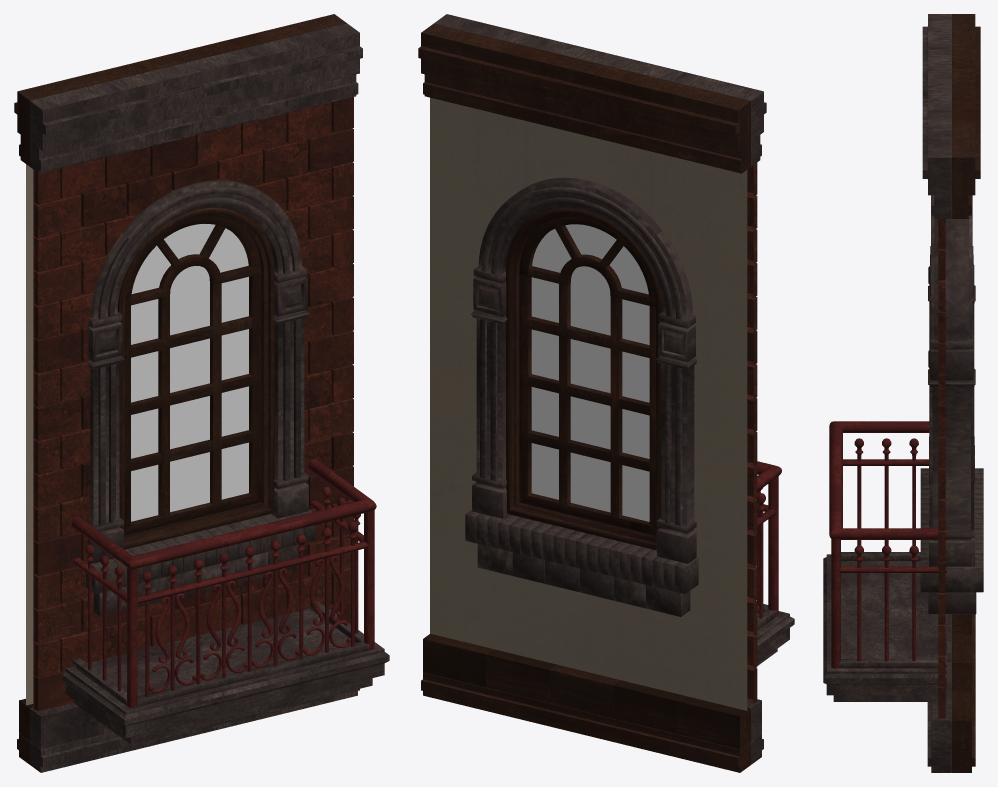
File: SK3 WINDOW 1 BALCONY.fbx
3 views of the same model, side by side, from view 1: azimuth 30°, elevation 25°; view 2: azimuth 150°, elevation 25°; view 3: azimuth 270°, elevation 25° (orthographic). The views are drawn at different scales.
Visible parts, largest first — view 1: SK3 WINDOW 1 BALCONY; view 2: SK3 WINDOW 1 BALCONY; view 3: SK3 WINDOW 1 BALCONY.
Boxes of the visible parts, <box> form: SK3 WINDOW 1 BALCONY: <box>14,14,389,772</box>; SK3 WINDOW 1 BALCONY: <box>418,14,794,772</box>; SK3 WINDOW 1 BALCONY: <box>823,14,983,772</box>.
Size of the model in its own units: 200 by 400 by 94.31.
